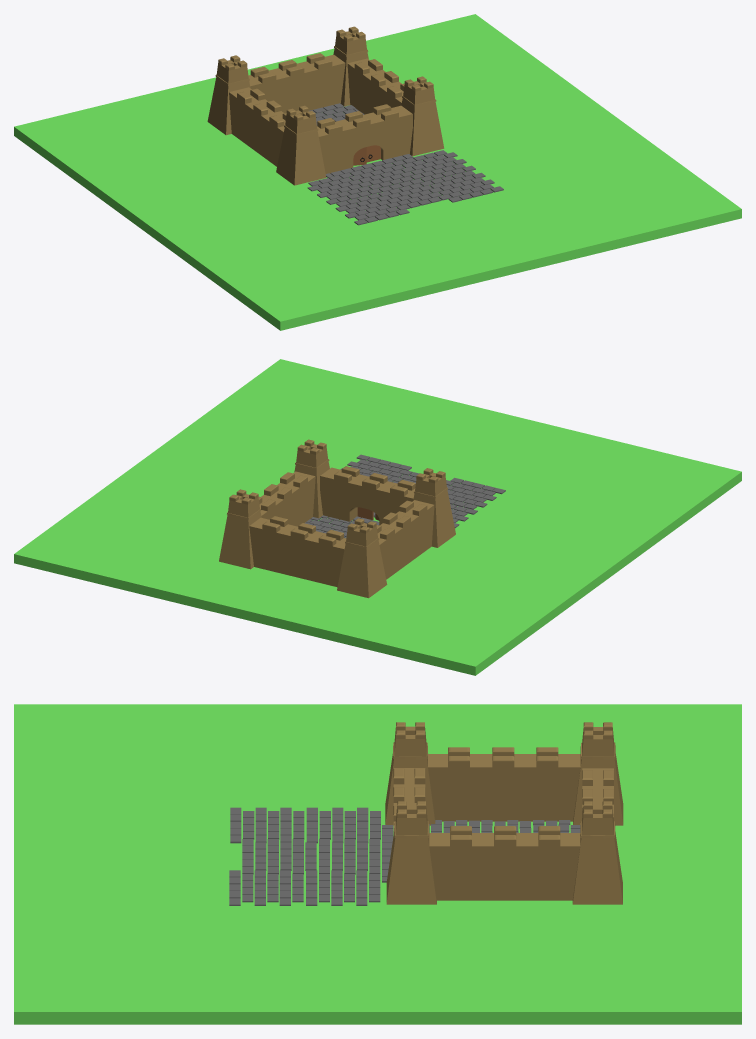
The model's file is castle.fbx.
The picture shows the model from 3 angles, top to bottom: view 1: azimuth 30°, elevation 25°; view 2: azimuth 150°, elevation 25°; view 3: azimuth 270°, elevation 25°; orthographic projection. The views are drawn at different scales.
Visible parts, largest first — view 1: Plane.003, Cube.007, Cube.003, Cube.005, Cube.011, Cube.006, Cube.012, Cube.010, Cube, Cube.001, Cube.004, Cube.002 (+1 smaller); view 2: Plane.003, Cube.003, Cube.007, Cube.005, Cube.004, Cube, Cube.002, Cube.006, Cube.012, Cube.001, Cube.010, Cube.013; view 3: Plane.003, Cube, Cube.005, Cube.011, Cube.010, Cube.012, Cube.001, Cube.002, Cube.004, Cube.006, Cube.013, Cube.007 (+1 smaller).
Part boxes in pixels (bbox=[...]): Plane.003: bbox=[14, 14, 741, 330]; Cube.007: bbox=[317, 104, 412, 173]; Cube.003: bbox=[248, 53, 345, 113]; Cube.005: bbox=[229, 87, 286, 166]; Cube.011: bbox=[325, 154, 452, 209]; Cube.006: bbox=[276, 105, 326, 185]; Cube.012: bbox=[307, 173, 409, 225]; Cube.010: bbox=[402, 150, 503, 202]; Cube: bbox=[347, 58, 404, 114]; Cube.001: bbox=[401, 76, 444, 156]; Cube.004: bbox=[207, 55, 250, 135]; Cube.002: bbox=[333, 26, 368, 106]; Plane.003: bbox=[14, 359, 741, 675]; Cube.003: bbox=[249, 516, 346, 587]; Cube.007: bbox=[320, 466, 415, 525]; Cube.005: bbox=[376, 500, 434, 579]; Cube.004: bbox=[337, 518, 387, 598]; Cube: bbox=[258, 471, 315, 526]; Cube.002: bbox=[219, 489, 261, 569]; Cube.006: bbox=[413, 468, 455, 547]; Cube.012: bbox=[446, 477, 505, 528]; Cube.001: bbox=[294, 439, 329, 518]; Cube.010: bbox=[340, 454, 411, 482]; Cube.013: bbox=[304, 515, 379, 538]; Plane.003: bbox=[14, 704, 741, 1024]; Cube: bbox=[429, 826, 580, 900]; Cube.005: bbox=[428, 747, 580, 821]; Cube.011: bbox=[242, 825, 393, 882]; Cube.010: bbox=[229, 870, 380, 905]; Cube.012: bbox=[230, 807, 380, 843]; Cube.001: bbox=[386, 801, 436, 904]; Cube.002: bbox=[572, 801, 622, 904]; Cube.004: bbox=[573, 722, 623, 825]; Cube.006: bbox=[385, 722, 435, 825]; Cube.013: bbox=[429, 820, 580, 832]; Cube.007: bbox=[393, 768, 425, 833].
Size of the model in its own units: 5000 by 755 by 5000.
